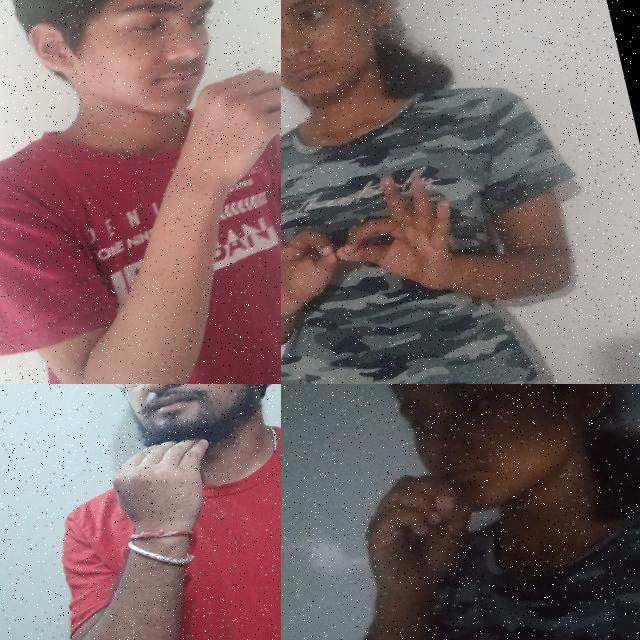Chin Flick: (53, 384, 281, 545)
Fist Mouth: (306, 384, 632, 628), (0, 0, 281, 255)
Okay: (317, 154, 475, 314), (281, 175, 357, 346)
